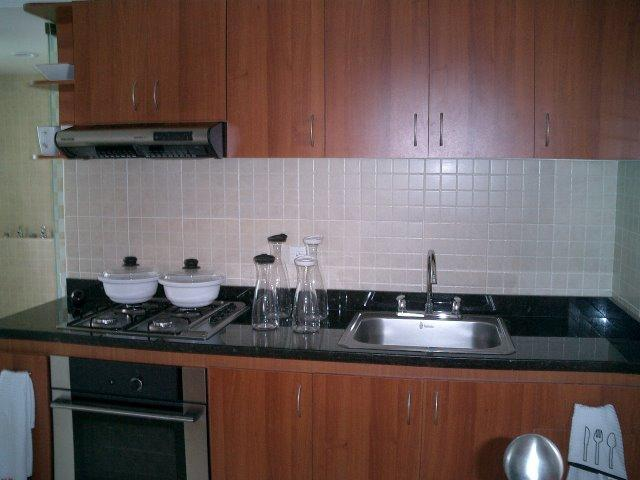Electrodomestico: (55, 317, 208, 475)
Lavaplatos: (341, 249, 518, 367)
